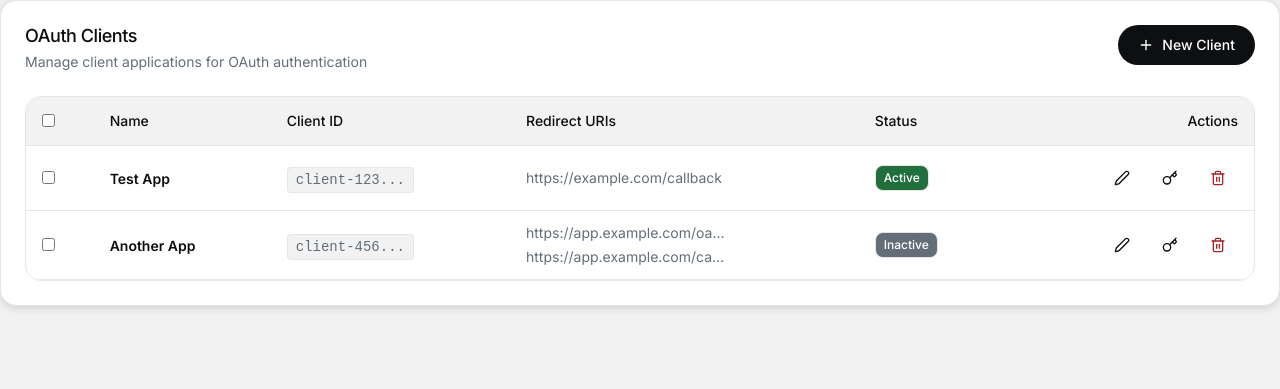
Test: ClientManagement › Rotate Secret › should display error when rotate fails
Expected: the text "Test App" is shown, 110,170 -> 170,186
Click the button titled "rotate secret" in the row of "Test App" at coordinates (1170, 178), box 1150,158 -> 1190,198
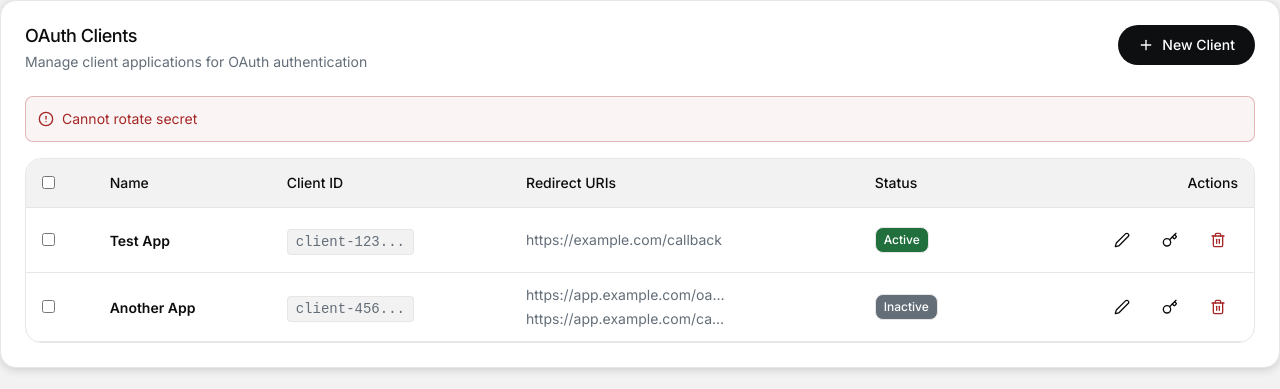
Expected: the text "Cannot rotate secret" is shown, 62,108 -> 197,128
